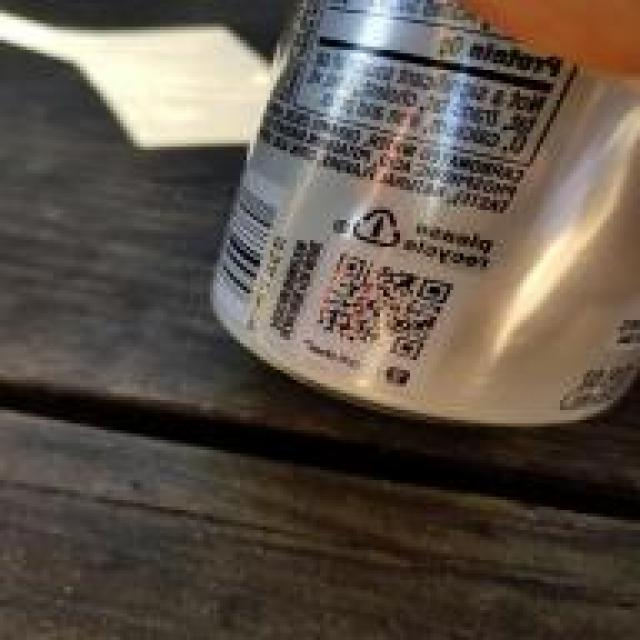qr_code: (315, 252, 453, 361)
